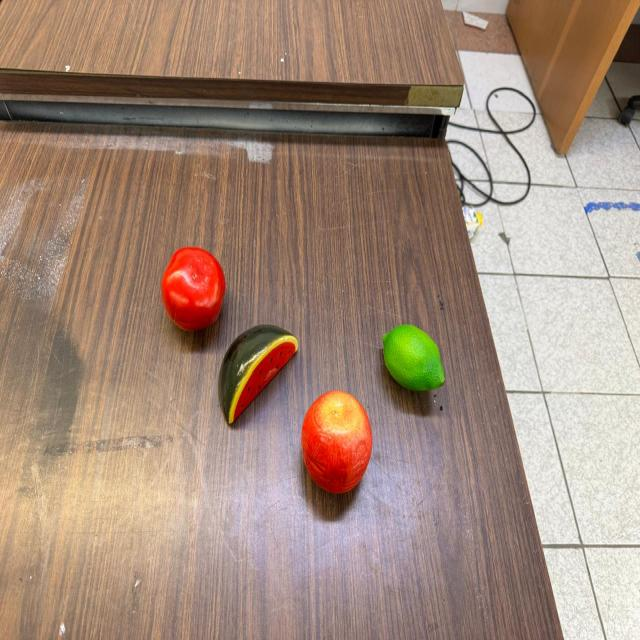apple: (300, 391, 371, 493)
lemon: (381, 324, 445, 390)
tomato: (162, 246, 226, 332)
watermelon: (218, 324, 300, 424)
